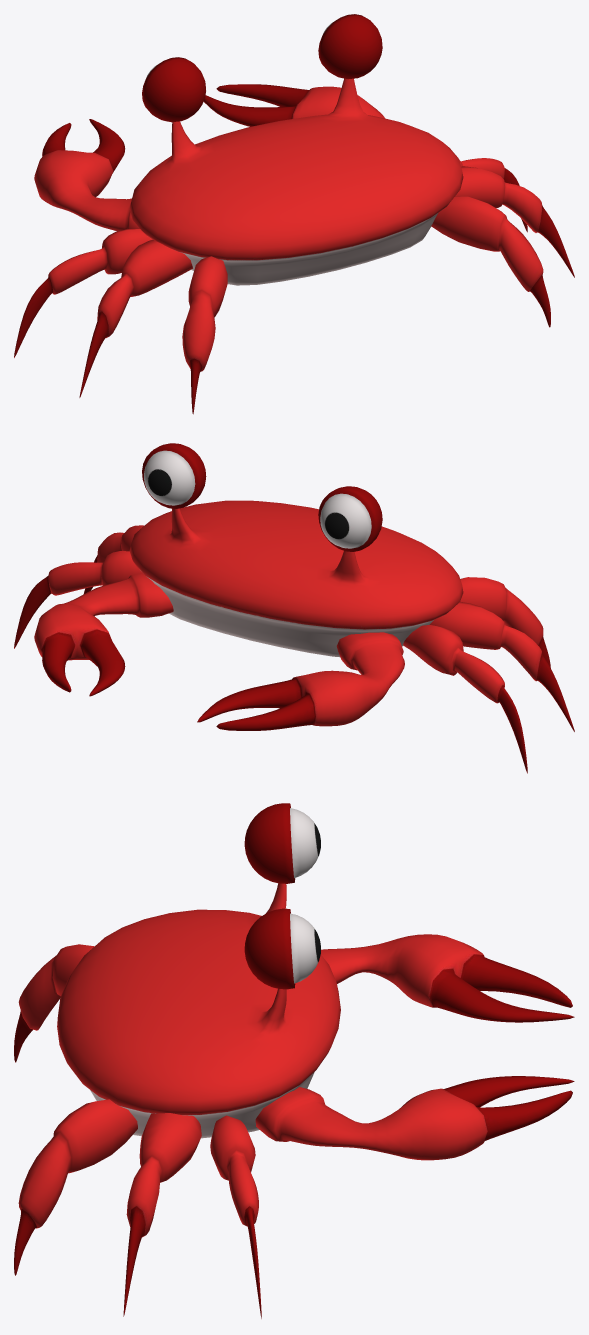
Rendered from crab.glb.
The picture shows the model from 3 angles, top to bottom: view 1: azimuth 30°, elevation 25°; view 2: azimuth 150°, elevation 25°; view 3: azimuth 270°, elevation 25°; orthographic projection. The views are drawn at different scales.
Visible parts, largest first — view 1: Crab.004; view 2: Crab.004; view 3: Crab.004.
Boxes of the visible parts, x1,y1,x2,y2 form: Crab.004: (14,14,574,414); Crab.004: (14,443,574,773); Crab.004: (14,803,574,1318).
Size of the model in its own units: 0.9359 by 0.4404 by 0.7226.
1 material, 1 textured.
